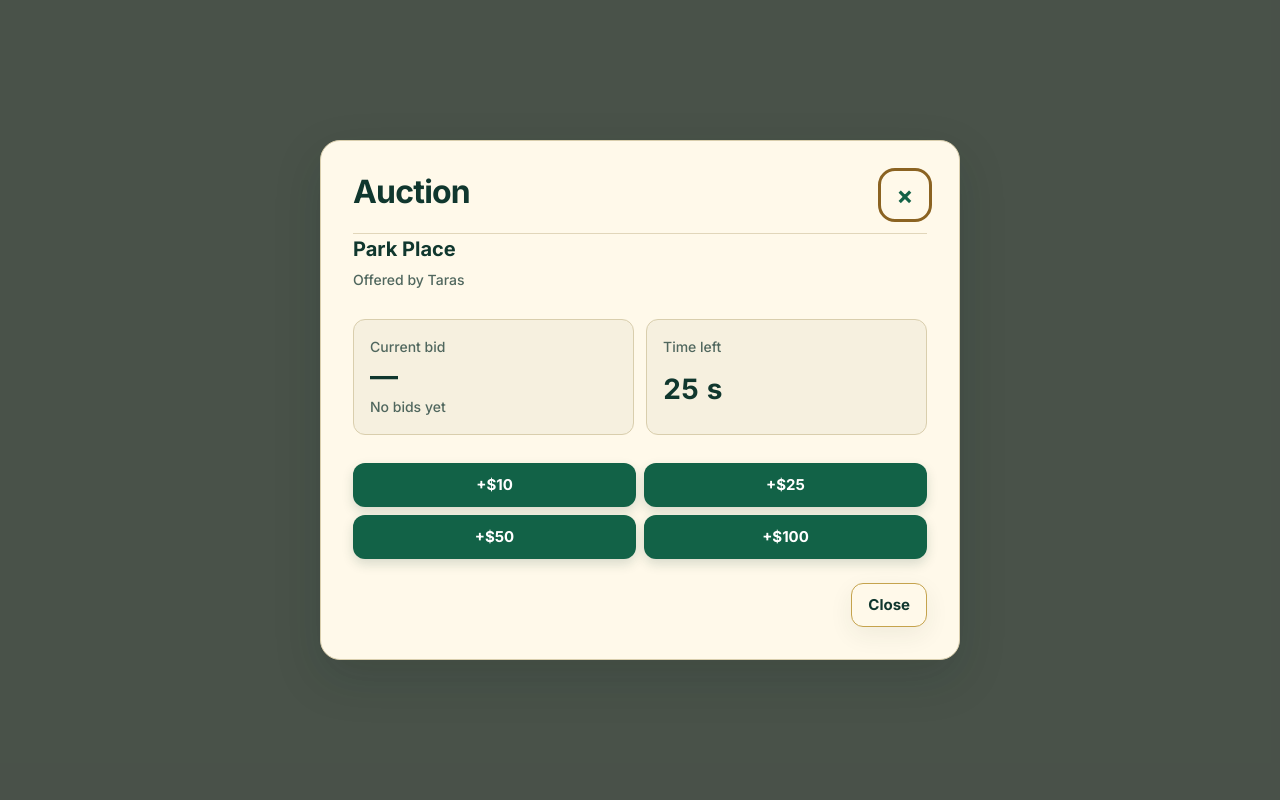
Test: AuctionDialog › keeps the dialog open on a stale bid and hands over the newer auction
The width and height of the screenshot is (1280, 800).
Click the button named "Raise the bid by" at (494, 485), box [353,463,636,507]
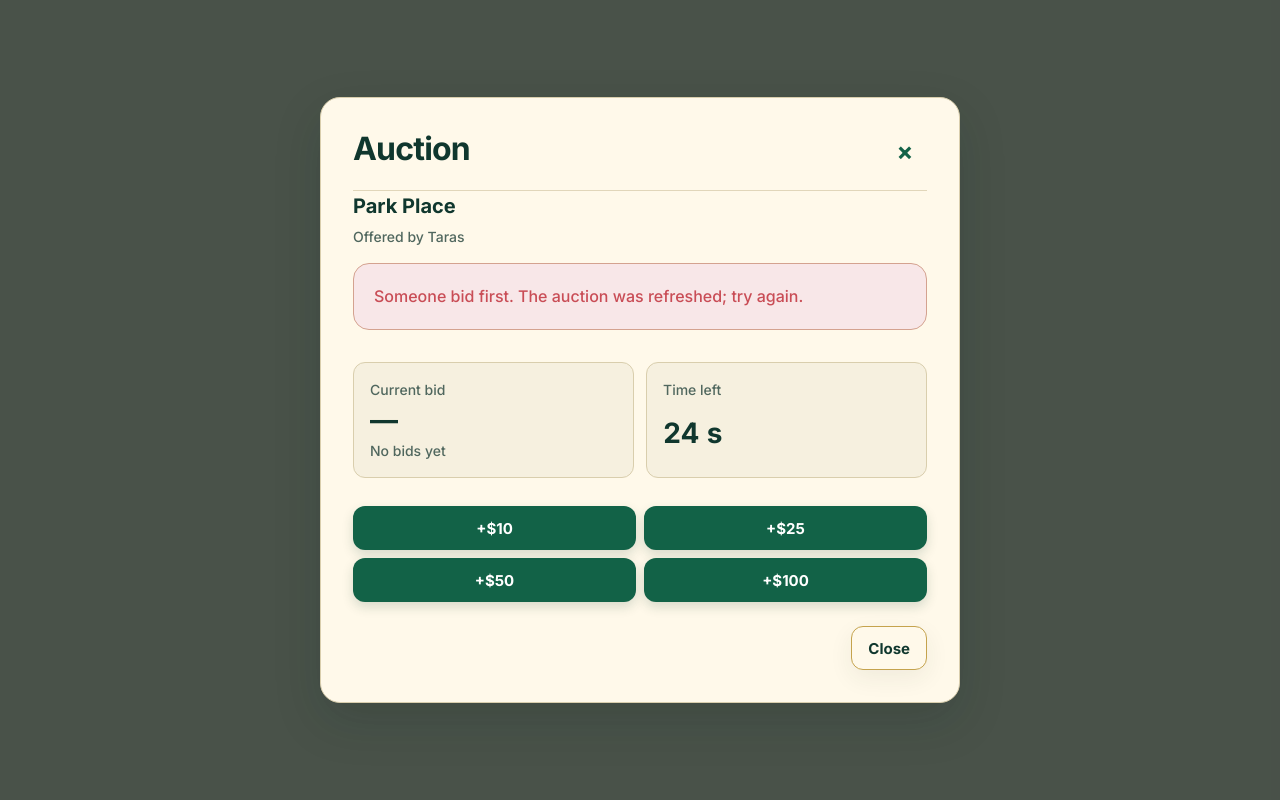
Now the text "Someone bid first. The auction was refreshed; try again." is shown, box [353,263,927,330]
